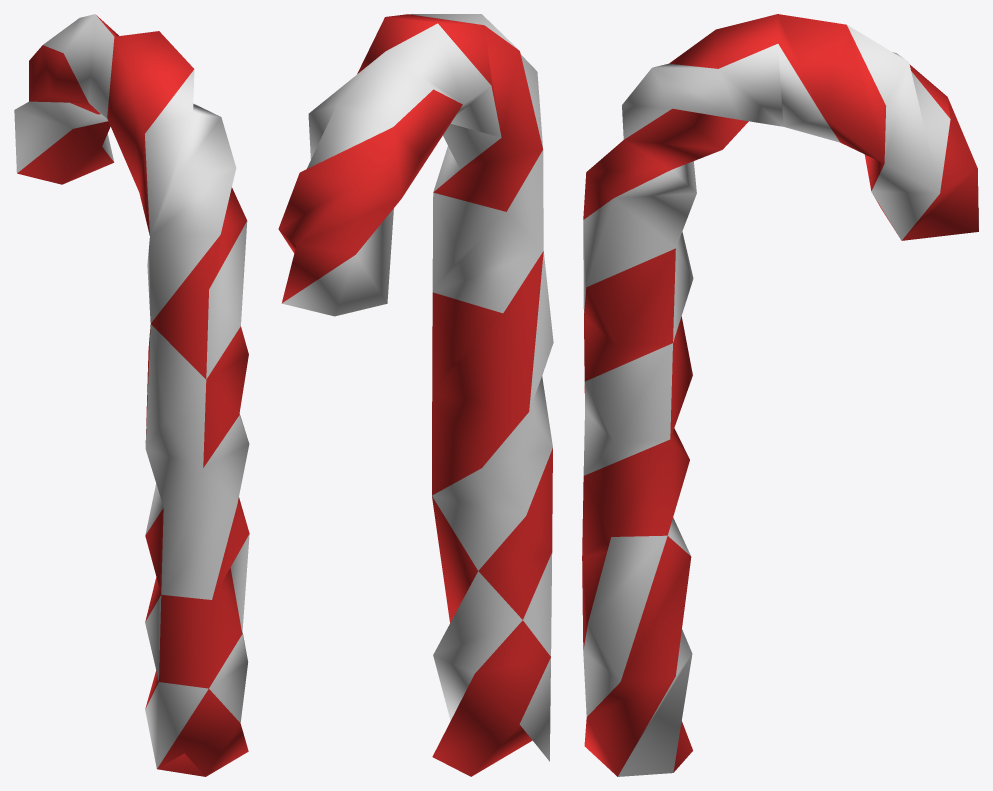
Rendered from candy cane v3.fbx.
3 views of the same model, side by side, from view 1: azimuth 30°, elevation 25°; view 2: azimuth 150°, elevation 25°; view 3: azimuth 270°, elevation 25° (orthographic). The views are drawn at different scales.
Parts seen in each view (by area): view 1: Circle.003; view 2: Circle.003; view 3: Circle.003.
Boxes of the visible parts, left/top/right/bottom form: Circle.003: left=14, top=14, right=249, bottom=776; Circle.003: left=278, top=14, right=553, bottom=776; Circle.003: left=582, top=14, right=978, bottom=776.
Size of the model in its own units: 199 by 1426 by 702.
